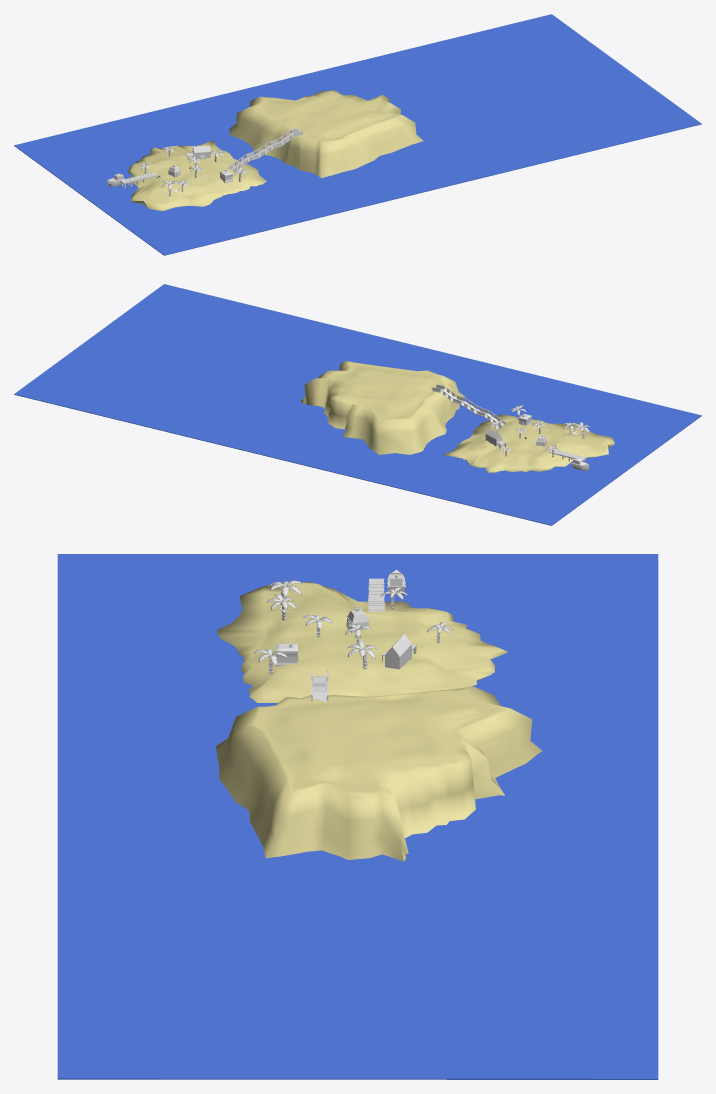
Rendered from Insel.fbx.
The picture shows the model from 3 angles, top to bottom: view 1: azimuth 30°, elevation 25°; view 2: azimuth 150°, elevation 25°; view 3: azimuth 270°, elevation 25°; orthographic projection. The views are drawn at different scales.
Parts seen in each view (by area): view 1: wasser, stadt, strandbase, brückeHeil; view 2: wasser, stadt, strandbase, brückeHeil; view 3: wasser, stadt, strandbase.
Part boxes in pixels (x1=…): wasser: x1=14, y1=14, x2=701, y2=255; stadt: x1=229, y1=90, x2=423, y2=177; strandbase: x1=128, y1=140, x2=266, y2=210; brückeHeil: x1=229, y1=128, x2=302, y2=172; wasser: x1=14, y1=284, x2=701, y2=525; stadt: x1=300, y1=361, x2=464, y2=454; strandbase: x1=443, y1=414, x2=614, y2=472; brückeHeil: x1=431, y1=384, x2=505, y2=428; wasser: x1=57, y1=554, x2=658, y2=1079; stadt: x1=216, y1=686, x2=542, y2=861; strandbase: x1=216, y1=582, x2=507, y2=702.
Bounding box in the file's own units: 50657 × 4323 × 24507.
